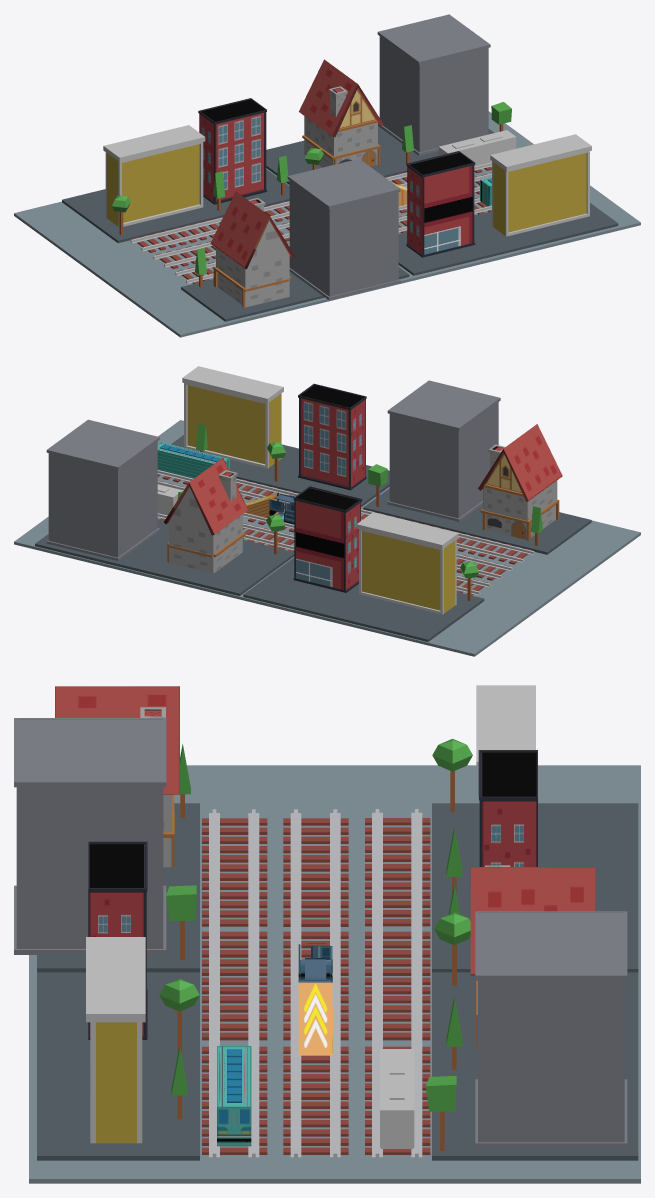
The model's file is kit 1.fbx.
3 views of the same model, one above another, from view 1: azimuth 30°, elevation 25°; view 2: azimuth 150°, elevation 25°; view 3: azimuth 270°, elevation 25° (orthographic). The views are drawn at different scales.
Parts seen in each view (by area): view 1: ground, Cube.021, Cube.026, Cube.007, Cube.027, Cylinder.002, Cube.012, Cylinder.001, Cube.025, Cube.008, Cube.022, Cube.011 (+4 smaller); view 2: ground, Cube.026, Cube.021, Cube.027, Cube.007, Cube.022, Cylinder.001, Cylinder.002, Cube.012, Cube.025, Cube.009, Cube.011 (+10 smaller); view 3: ground, Cube.026, Cube.021, Cube.008, Cube.022, Cube.007, Cube.009, Cube.025, Cube.015, Cube.017, Cube.023, Cube.024 (+19 smaller).
Boxes of the visible parts, x1,y1,x2,y2 form: ground: (14,111,640,337); Cube.021: (287,159,400,300); Cube.026: (377,14,490,155); Cube.007: (490,134,591,236); Cube.027: (103,125,205,227); Cylinder.002: (210,191,294,307); Cube.012: (406,151,475,257); Cylinder.001: (299,59,383,167); Cube.025: (198,98,266,204); Cube.008: (398,203,618,275); Cube.022: (62,169,289,243); Cube.011: (181,267,409,321); ground: (14,420,640,656); Cube.026: (46,419,159,560); Cube.021: (387,380,500,521); Cube.027: (356,512,458,614); Cube.007: (182,366,283,468); Cube.022: (243,557,484,641); Cylinder.001: (164,457,248,573); Cylinder.002: (478,424,562,540); Cube.012: (298,383,366,490); Cube.025: (293,486,362,592); Cube.009: (35,519,294,595); Cube.011: (363,488,591,554); ground: (29,765,640,1183); Cube.026: (475,911,627,1148); Cube.021: (14,718,166,954); Cube.008: (37,972,199,1160); Cube.022: (432,803,638,972); Cube.007: (86,937,145,1143); Cube.009: (432,972,638,1160); Cube.025: (478,750,537,866); Cube.015: (202,922,267,1042); Cube.017: (365,922,430,1042); Cube.023: (283,809,348,928); Cube.024: (365,809,430,926).
Bounding box in the file's own units: 3600 × 739 × 2307.
